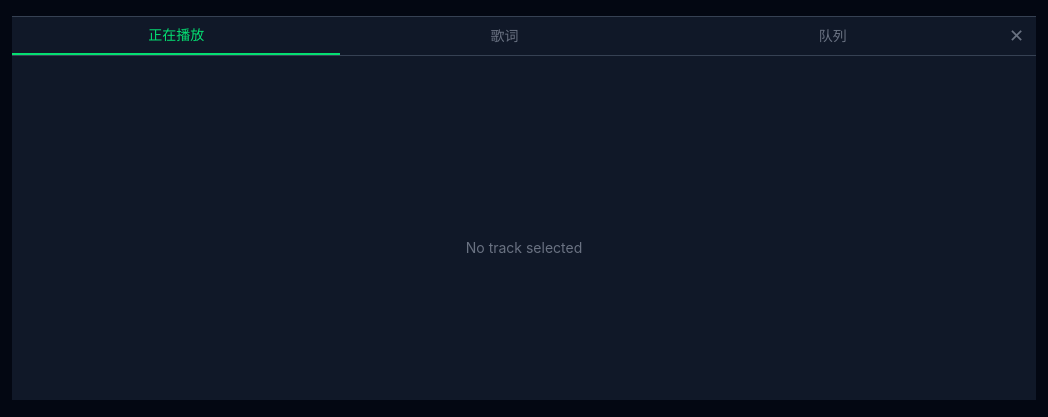
Test: PlayerPanel › switches to queue tab
Step 1. Click the button "队列" → (833, 36), box [669, 17, 997, 55]
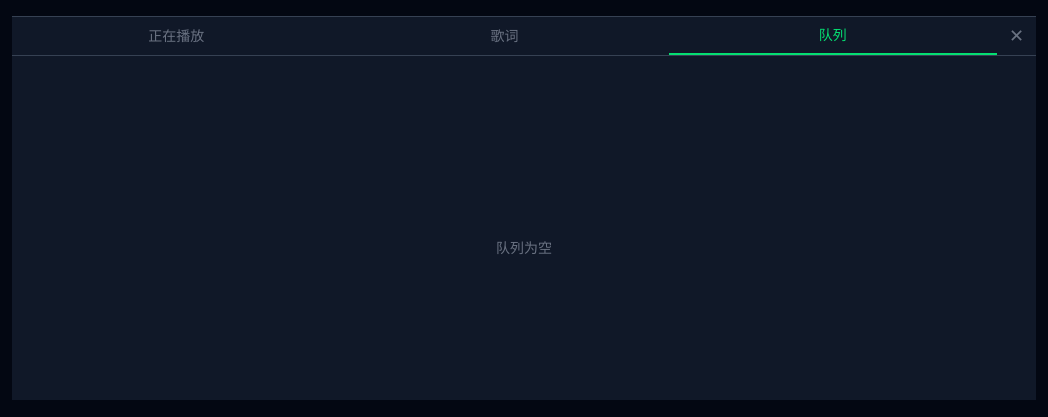
Check: the text "队列为空" is shown, box [496, 238, 552, 256]
